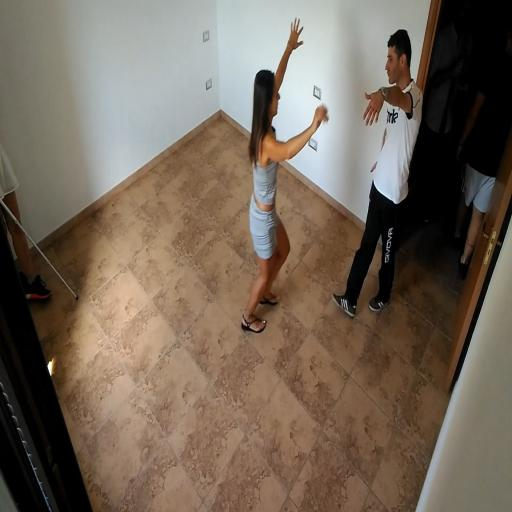nao-violencia: (237, 7, 424, 359)
